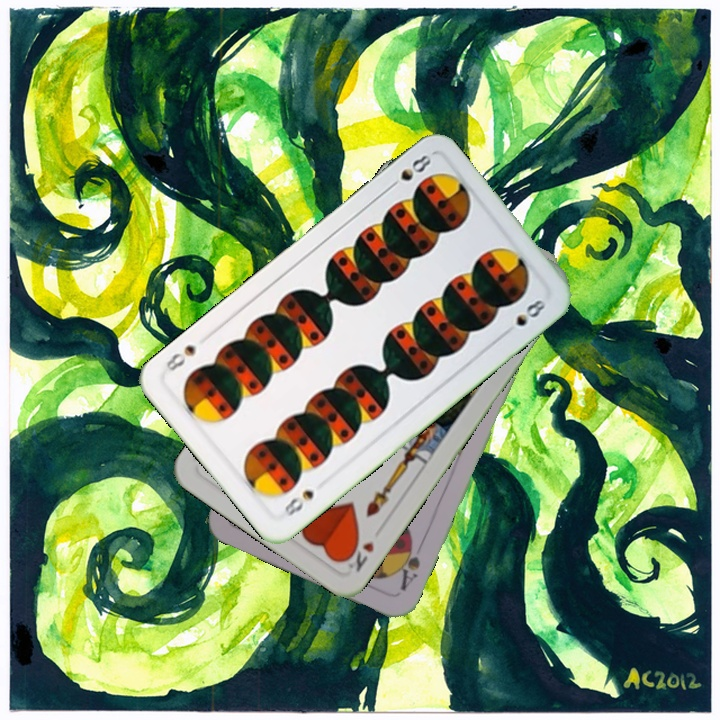HK: (340, 534, 377, 575)
S8: (383, 150, 435, 195), (280, 485, 317, 519)
SA: (392, 535, 423, 594)
